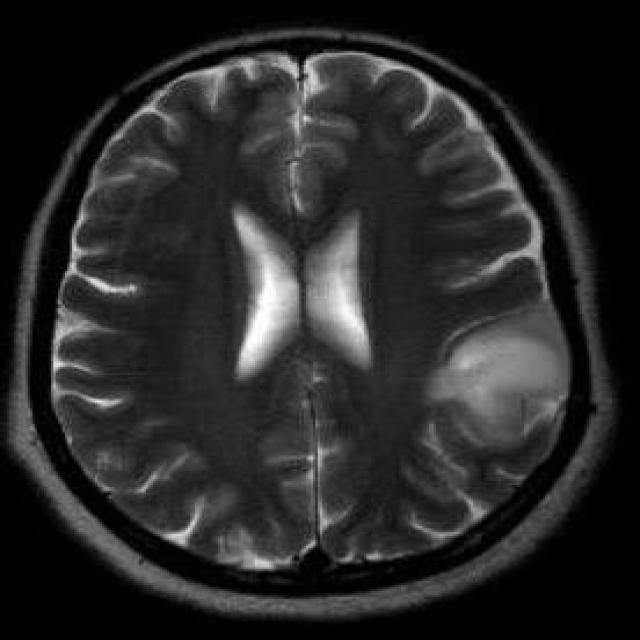notumor: (9, 29, 619, 626)
